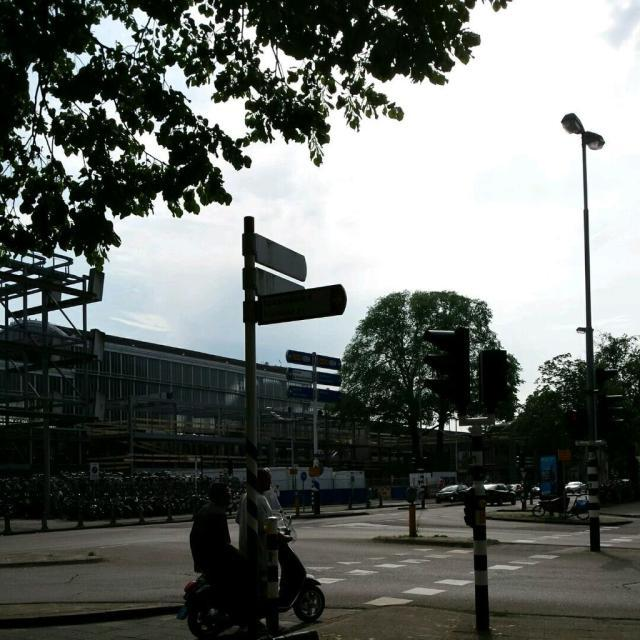off traffic light: (423, 324, 468, 408), (595, 367, 625, 440), (478, 350, 512, 412)
